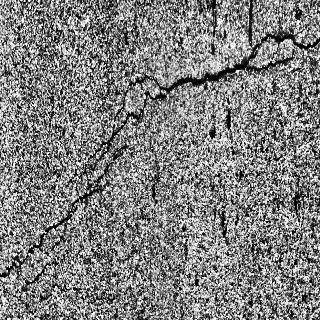crack: (138, 37, 258, 109), (64, 107, 127, 225), (0, 214, 71, 287), (247, 31, 320, 76), (116, 79, 146, 132)
